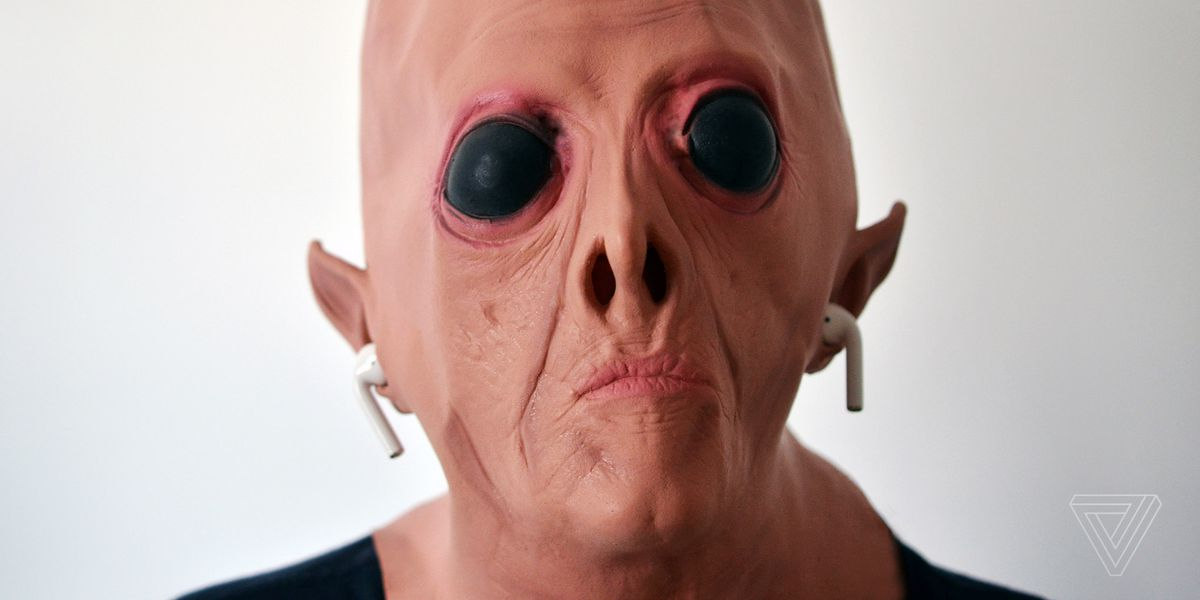earphone: (310, 242, 413, 413), (822, 203, 906, 403)
